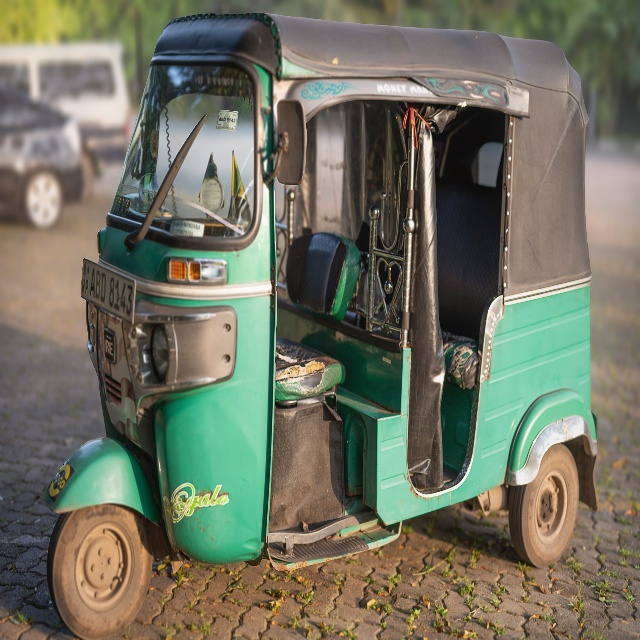Motorcycle: (40, 10, 596, 640)
